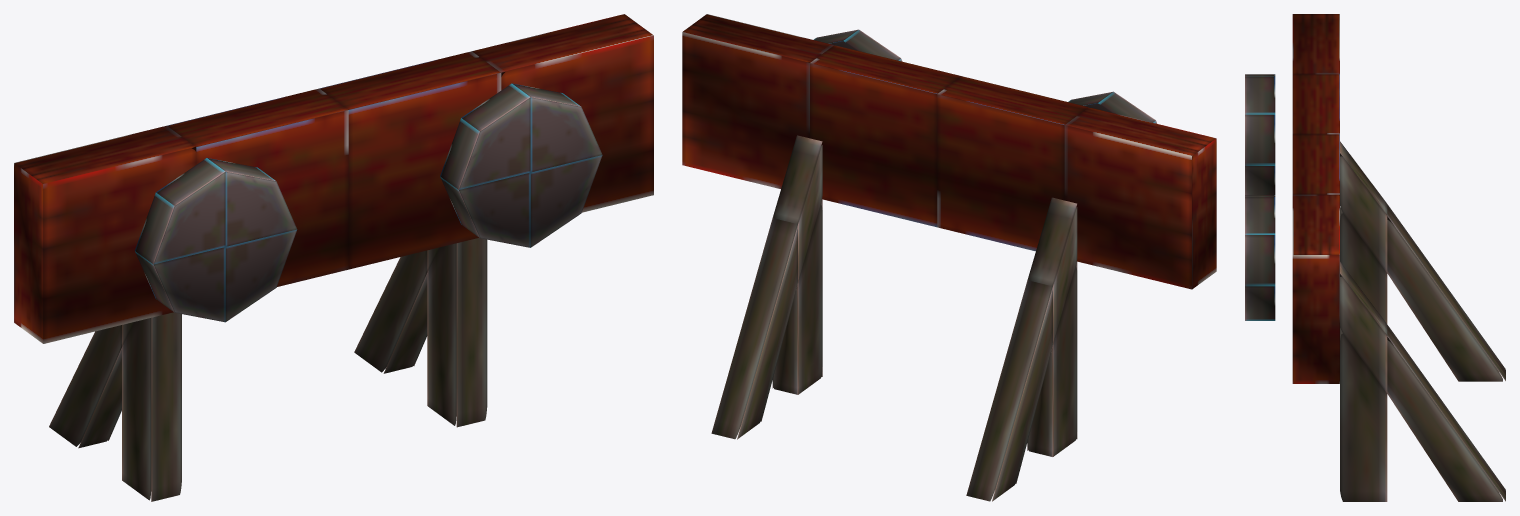
The picture shows the model from 3 angles, left to right: view 1: azimuth 30°, elevation 25°; view 2: azimuth 150°, elevation 25°; view 3: azimuth 270°, elevation 25°; orthographic projection. The views are drawn at different scales.
Parts seen in each view (by area): view 1: T1L1M003_14; view 2: T1L1M003_14; view 3: T1L1M003_14.
Part boxes in pixels (bbox=[...]): T1L1M003_14: bbox=[14, 14, 653, 501]; T1L1M003_14: bbox=[682, 14, 1216, 501]; T1L1M003_14: bbox=[1245, 14, 1505, 501].
Bounding box in the file's own units: 2.4 × 1.4 × 1.1.
Materials: 1 (1 with a texture image).
